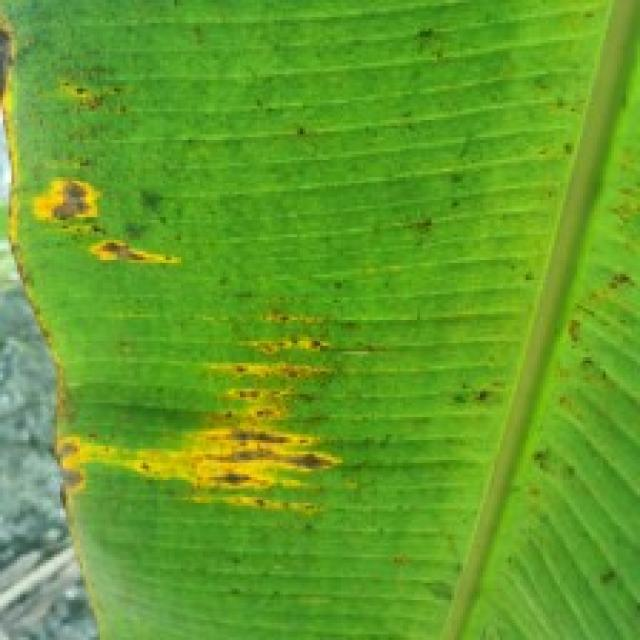Downey_mildrew: (0, 0, 357, 620), (397, 26, 640, 623)
